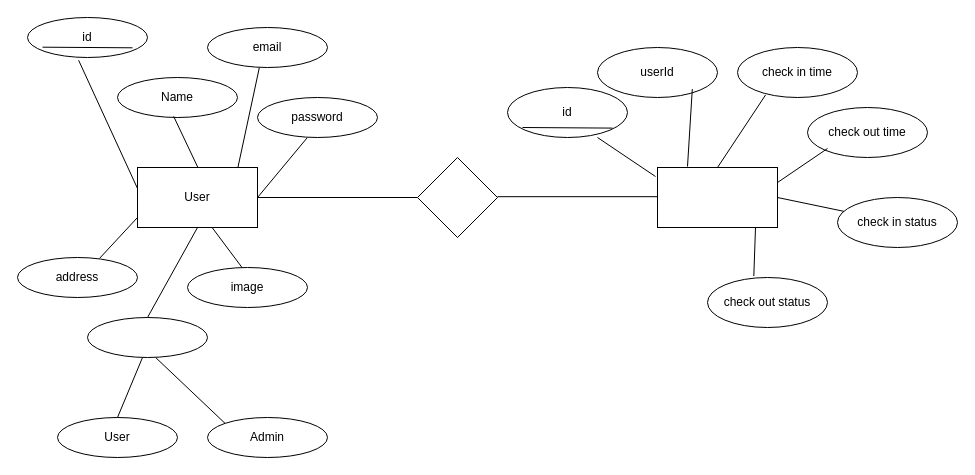
This 975x475 diagram has some shape labels left out. The centre of each missing label's shape, as x and y in pixels:
"Attendances" belongs at [717,197].
"has" belongs at [457,197].
"role" belongs at [147,337].
